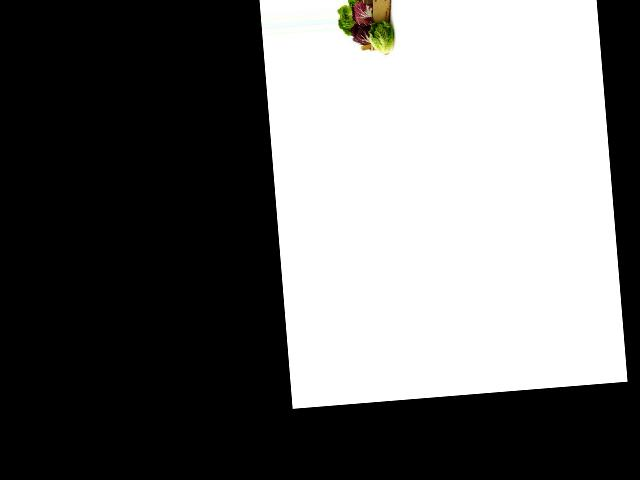lettuce: (336, 4, 360, 36)
